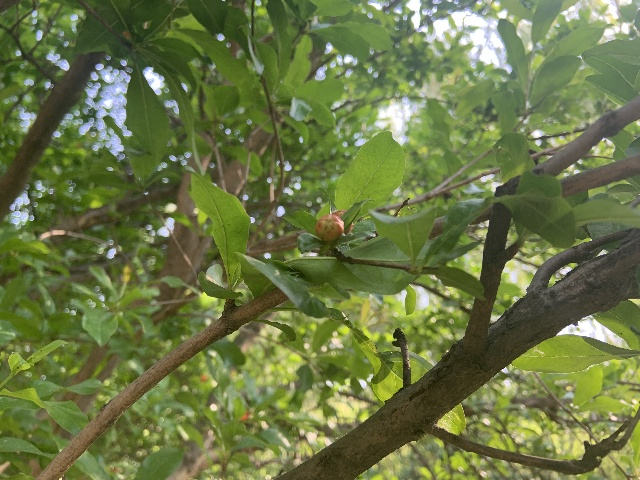bud: (314, 213, 344, 242), (332, 209, 353, 234)
